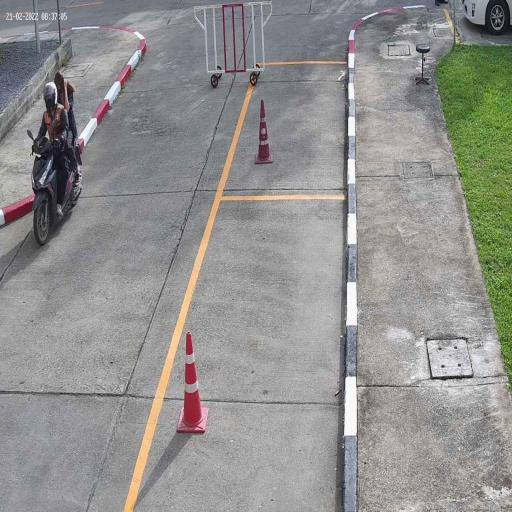motorcycle: (31, 136, 82, 247)
